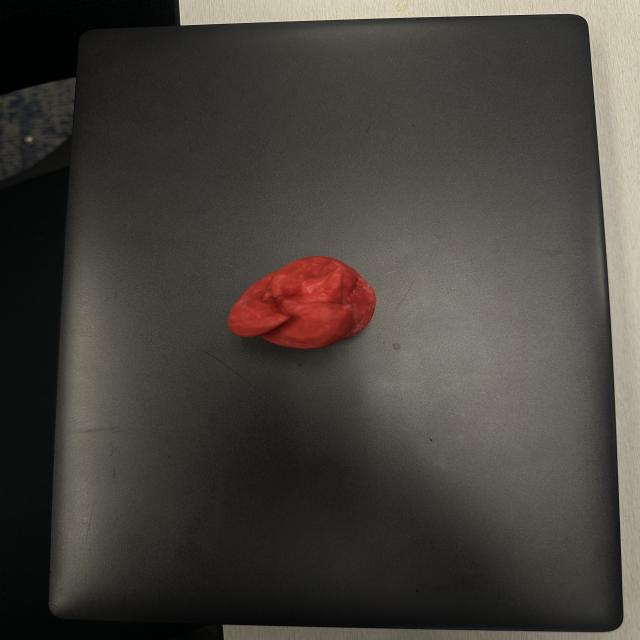fire: (225, 253, 378, 351)
